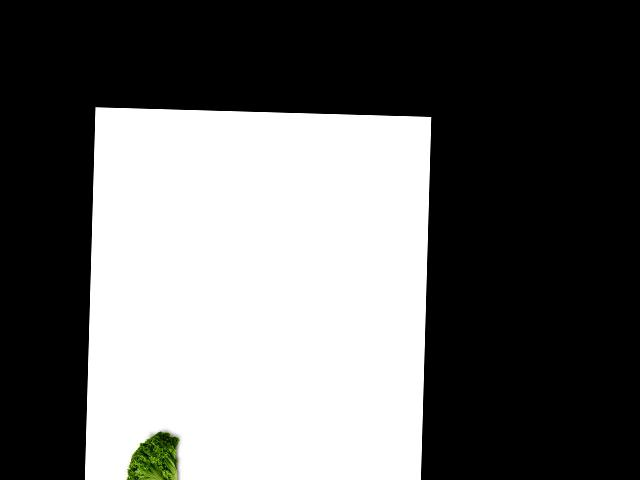lettuce: (122, 427, 186, 480)
